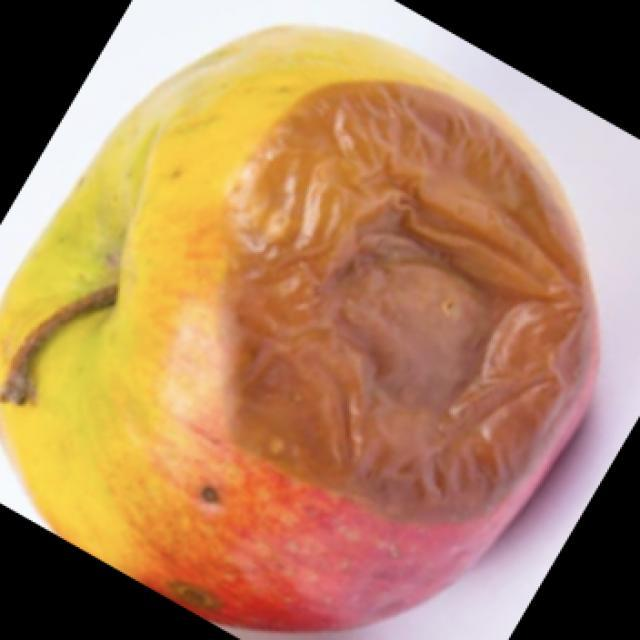Rotten: (2, 23, 603, 635)
